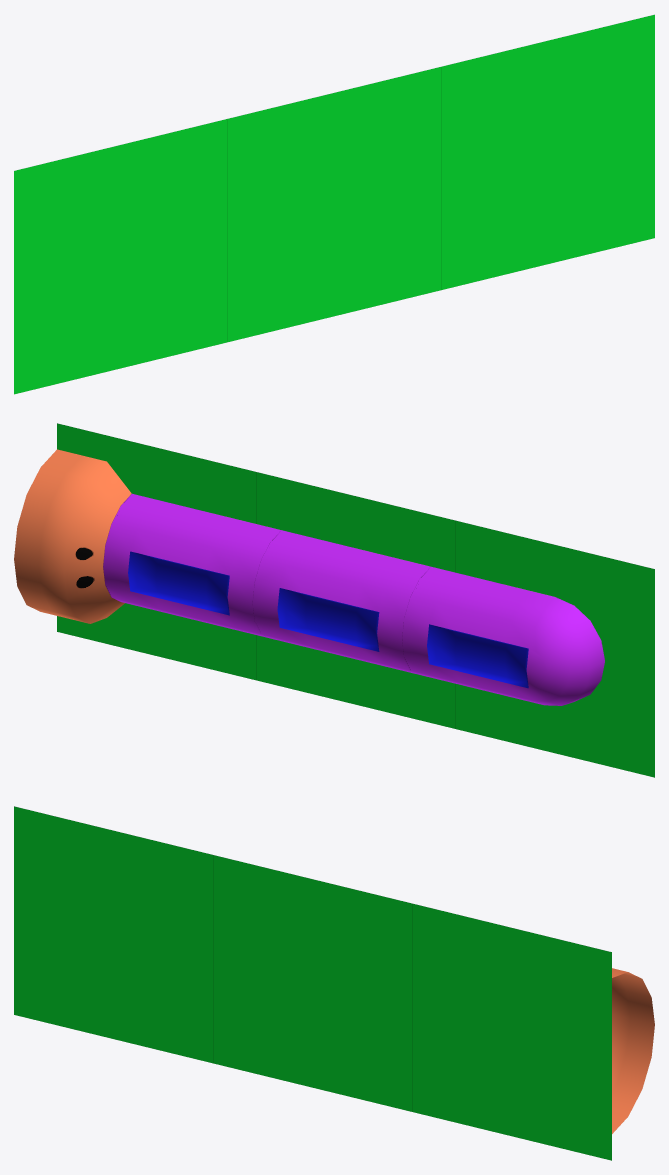
The model's file is 1x3_Sngl.fbx.
3 renders of one model, top to bottom at view 1: azimuth 30°, elevation 25°; view 2: azimuth 150°, elevation 25°; view 3: azimuth 330°, elevation 25°, orthographic. The views are drawn at different scales.
Visible parts, largest first — view 1: Panel_1x3_Sngl_End; view 2: Panel_1x3_Sngl_End; view 3: Panel_1x3_Sngl_End.
Part boxes in pixels (x1=…): Panel_1x3_Sngl_End: x1=14, y1=14, x2=654, y2=394; Panel_1x3_Sngl_End: x1=14, y1=423, x2=654, y2=777; Panel_1x3_Sngl_End: x1=14, y1=806, x2=654, y2=1160.
Size of the model in its own units: 300 by 100 by 37.5.
